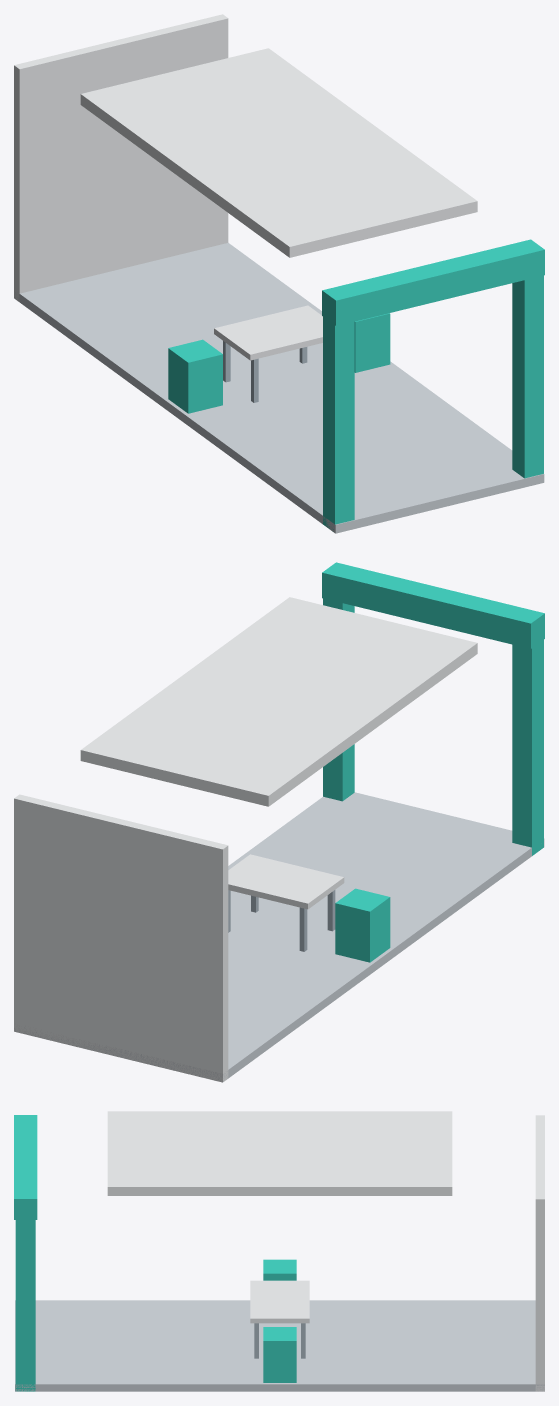
3 renders of one model, top to bottom at view 1: azimuth 30°, elevation 25°; view 2: azimuth 150°, elevation 25°; view 3: azimuth 270°, elevation 25°, orthographic. The views are drawn at different scales.
Visible parts, largest first — view 1: Exhibition Booth Concept; view 2: Exhibition Booth Concept; view 3: Exhibition Booth Concept.
Part boxes in pixels (x1,y1,x2,y2): Exhibition Booth Concept: (14, 14, 544, 533); Exhibition Booth Concept: (14, 562, 544, 1082); Exhibition Booth Concept: (14, 1111, 544, 1391).
Bounding box in the file's own units: 3 × 3.34 × 8.01.
